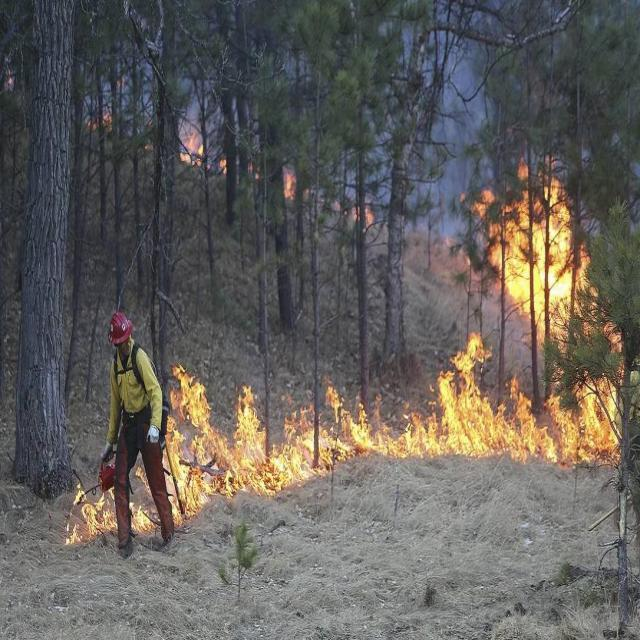Fire: (0, 121, 640, 547)
Smoke: (4, 4, 632, 112)
